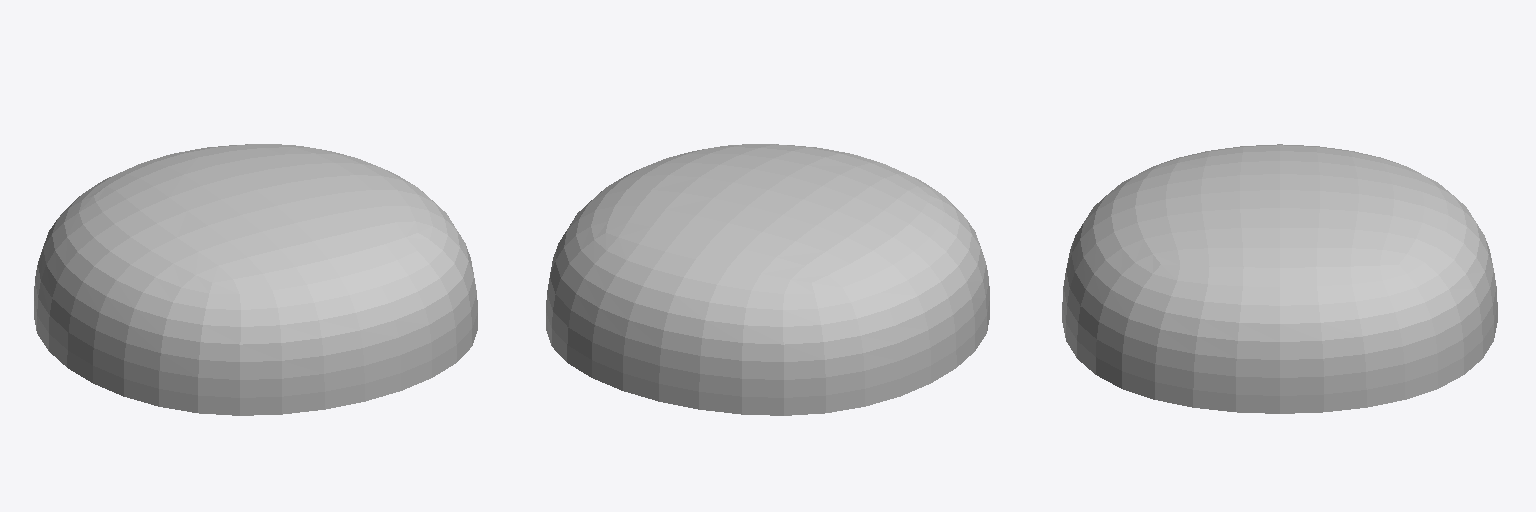
Rendered from buttonCap.obj.
3 renders of one model, left to right at view 1: azimuth 30°, elevation 25°; view 2: azimuth 150°, elevation 25°; view 3: azimuth 270°, elevation 25°, orthographic.
Parts seen in each view (by area): view 1: Cube.001; view 2: Cube.001; view 3: Cube.001.
Boxes of the visible parts, <box> form: Cube.001: <box>34,144,477,415</box>; Cube.001: <box>546,144,989,415</box>; Cube.001: <box>1062,144,1497,413</box>.
Size of the model in its own units: 1.47 by 0.4905 by 1.47.